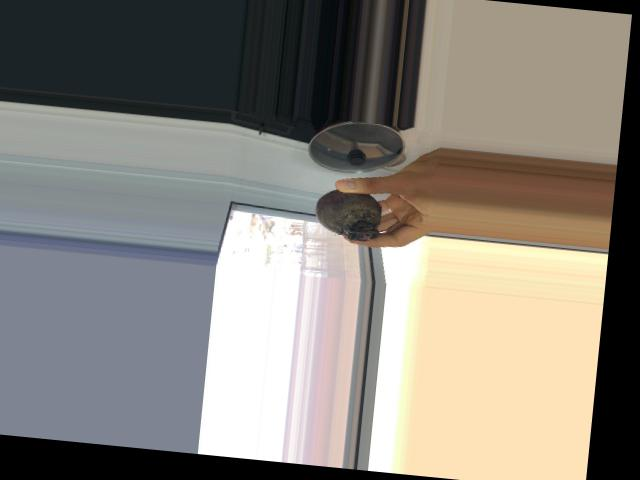beet: (312, 186, 402, 244)
